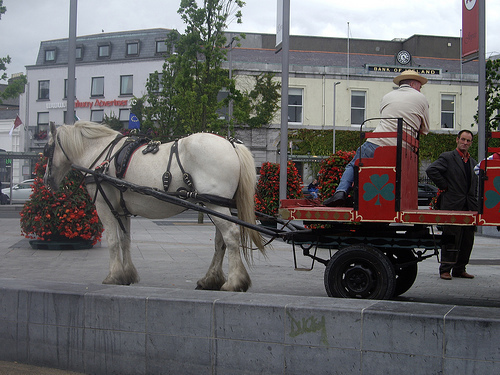horse: (39, 119, 269, 292)
